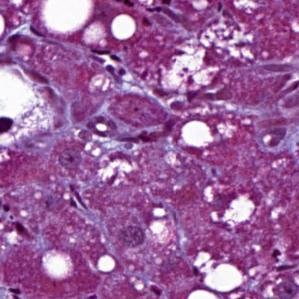ballooning: (4, 60, 57, 154)
